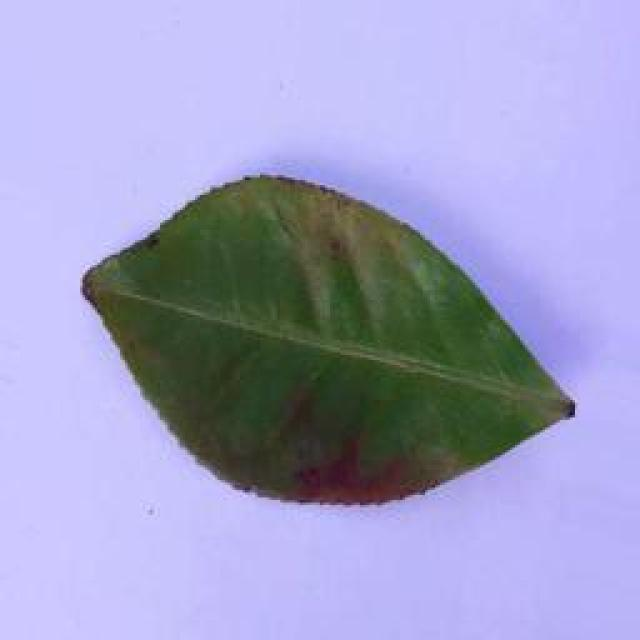Red Leaf Spot: (84, 170, 586, 523)
